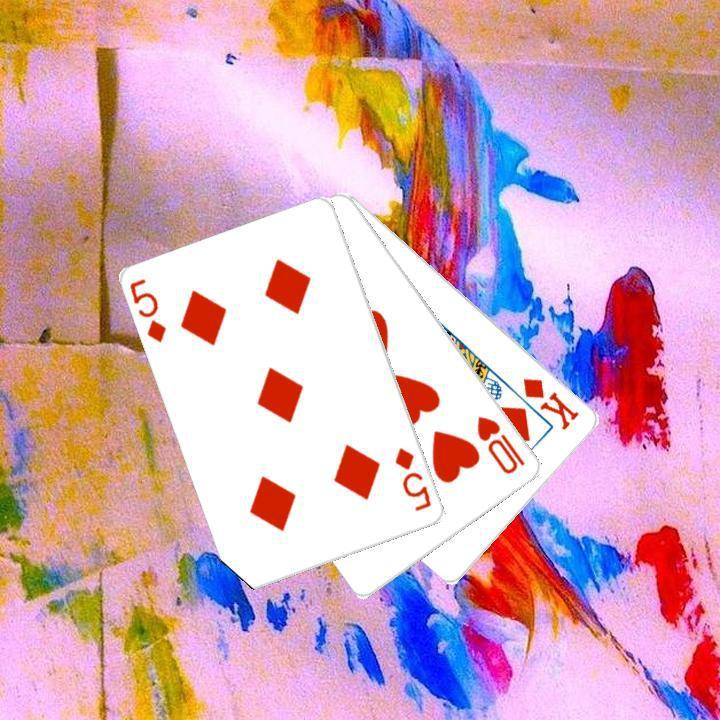10: (473, 411, 528, 477)
5: (125, 274, 169, 345), (391, 443, 434, 514)
K: (519, 373, 582, 433)
